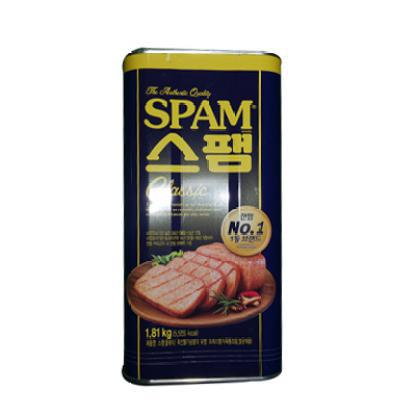spam: (118, 41, 288, 387)
